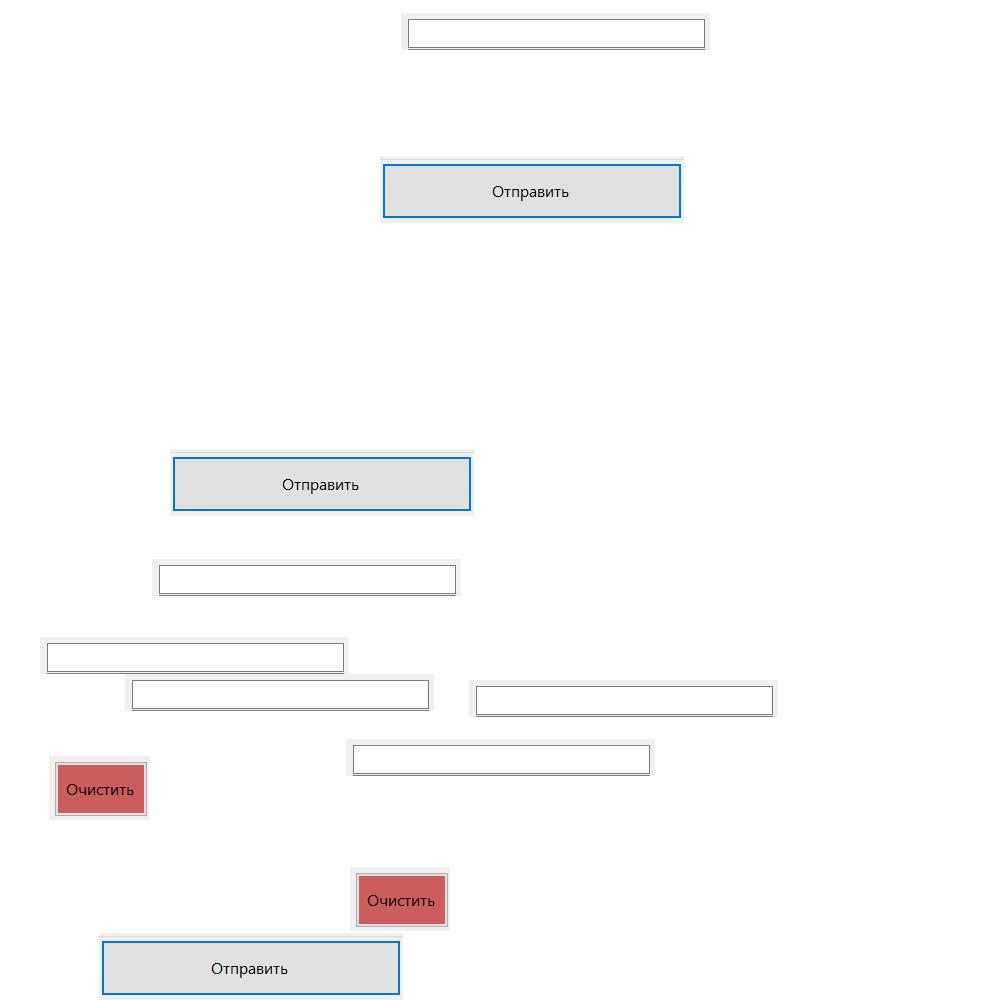Button: (380, 156, 684, 223), (99, 933, 403, 1000), (170, 449, 474, 516), (350, 867, 450, 931), (49, 756, 149, 820)
EditText-: (125, 674, 434, 711), (469, 680, 778, 717), (40, 637, 349, 674), (346, 739, 655, 776), (152, 559, 461, 596), (401, 13, 710, 50)
